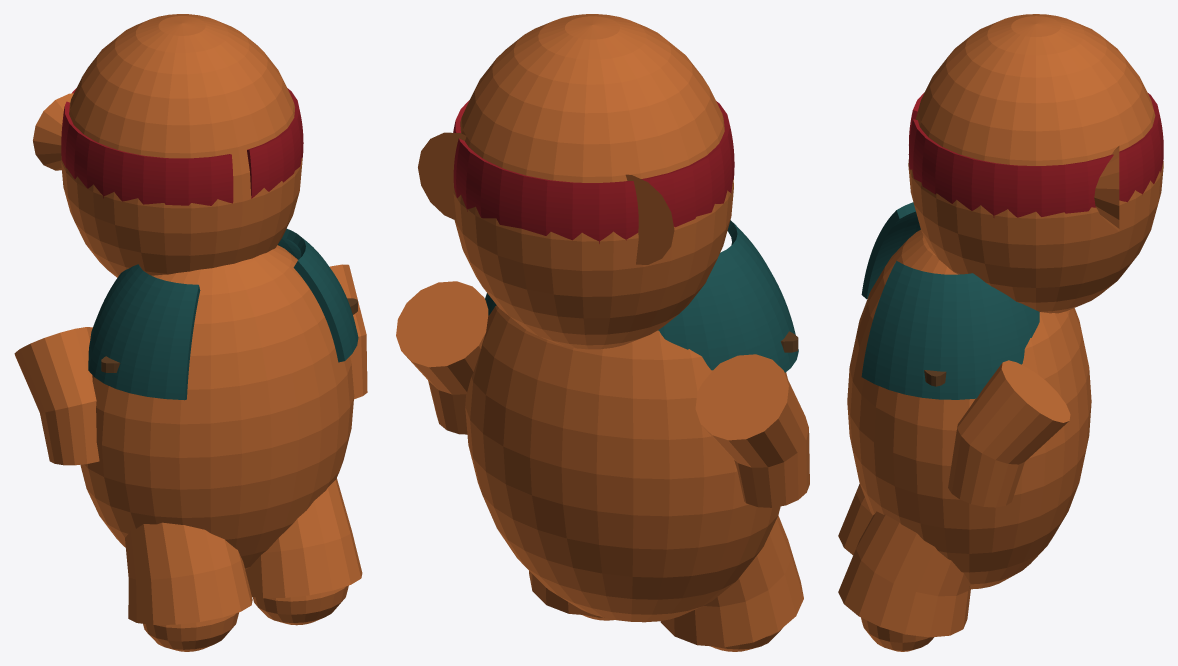
3 views of the same model, side by side, from view 1: azimuth 30°, elevation 25°; view 2: azimuth 150°, elevation 25°; view 3: azimuth 270°, elevation 25° (orthographic). The views are drawn at different scales.
Bounding box in the file's own units: 0.7188 × 1.18 × 0.5863.
